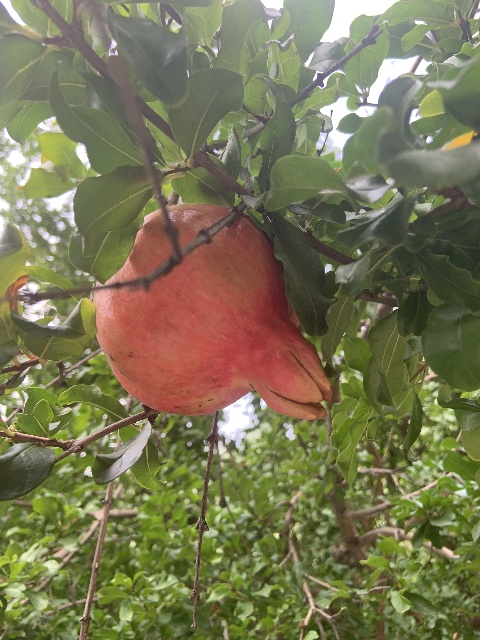ripe: (93, 203, 334, 421)
